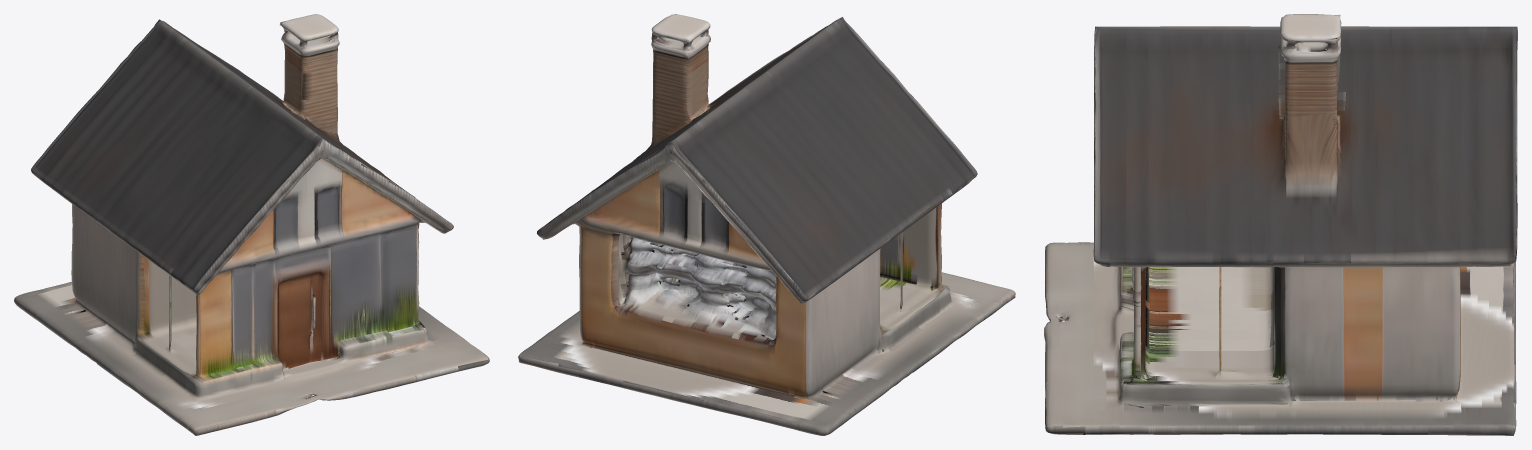
Rendered from casa3D.glb.
The picture shows the model from 3 angles, left to right: view 1: azimuth 30°, elevation 25°; view 2: azimuth 150°, elevation 25°; view 3: azimuth 270°, elevation 25°; orthographic projection. The views are drawn at different scales.
Visible parts, largest first — view 1: model; view 2: model; view 3: model.
Boxes of the visible parts, x1,y1,x2,y2 form: model: (14,14,489,435); model: (518,14,1015,435); model: (1044,14,1517,435).
Bounding box in the file's own units: 1.76 × 1.62 × 1.9.
Materials: 1 (1 with a texture image).
